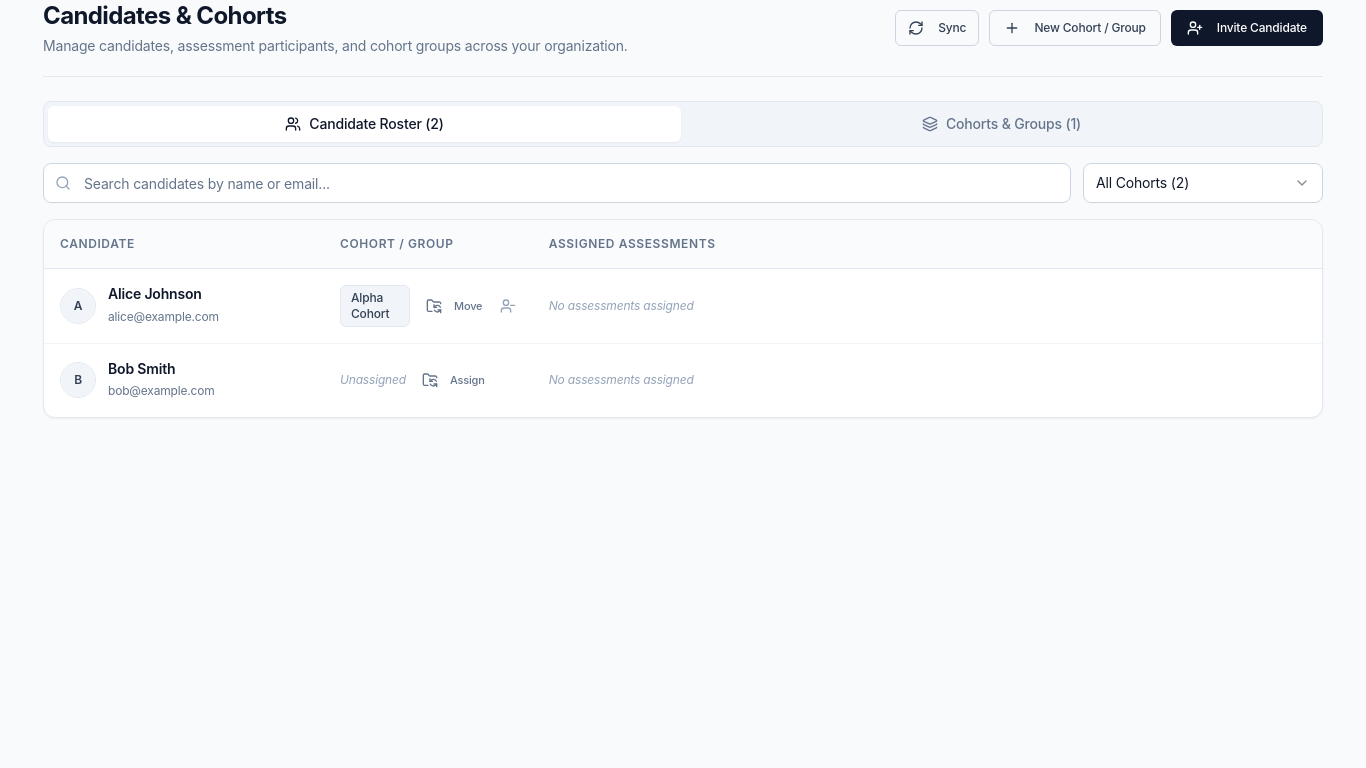
Test: CandidatesPage & Cohort Management End-to-End › 3. Opens candidate cohort modal and assigns unassigned candidate
Click the button titled "Assign to cohort": (453, 380) [414,366,493,394]
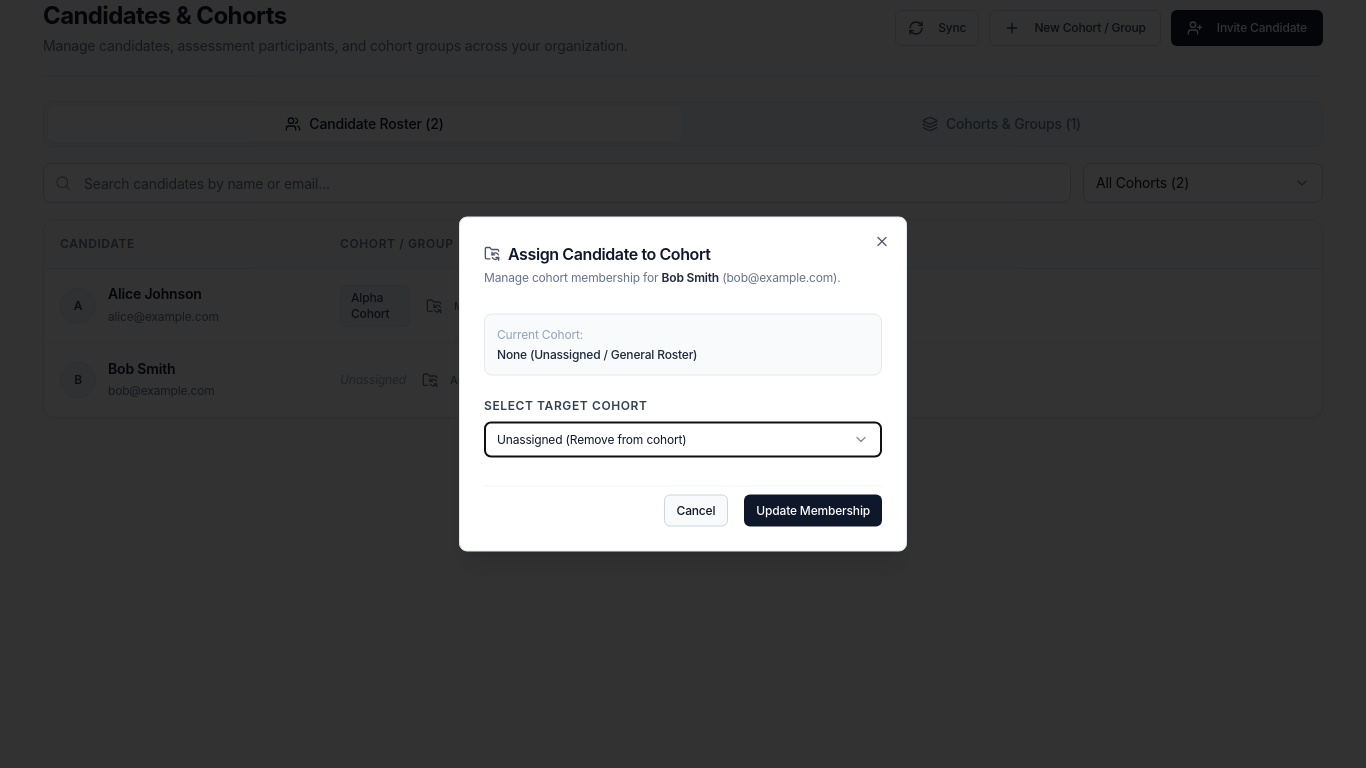
expect the heading "Assign Candidate to Cohort" is shown: met, box [484,244,710,264]
expect the text "None (Unassigned / General Roster)" is shown: met, box [497,346,697,362]
